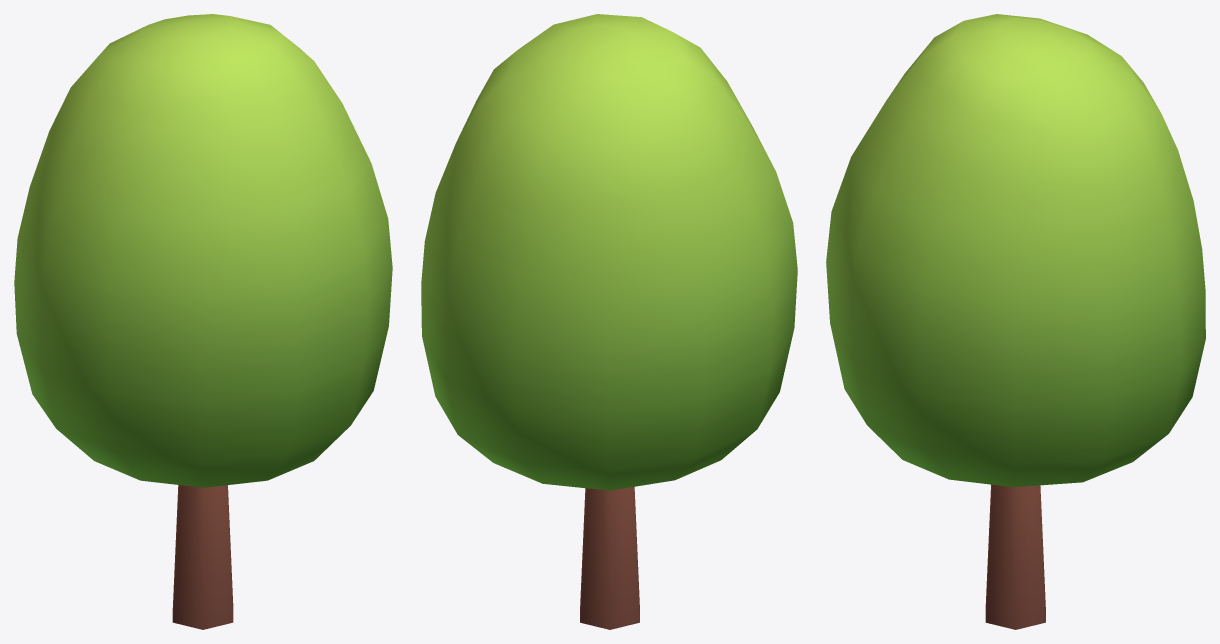
The model's file is city2-tree-07.glb.
3 views of the same model, side by side, from view 1: azimuth 30°, elevation 25°; view 2: azimuth 150°, elevation 25°; view 3: azimuth 270°, elevation 25° (orthographic).
Parts seen in each view (by area): view 1: Tree_07; view 2: Tree_07; view 3: Tree_07.
Boxes of the visible parts, x1,y1,x2,y2 form: Tree_07: (14, 14, 392, 629); Tree_07: (421, 14, 797, 629); Tree_07: (826, 14, 1205, 629).
Size of the model in its own units: 3.07 by 5.26 by 3.09.
Materials: 1 (1 with a texture image).
